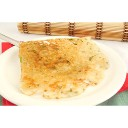dosa: (19, 40, 111, 94)
